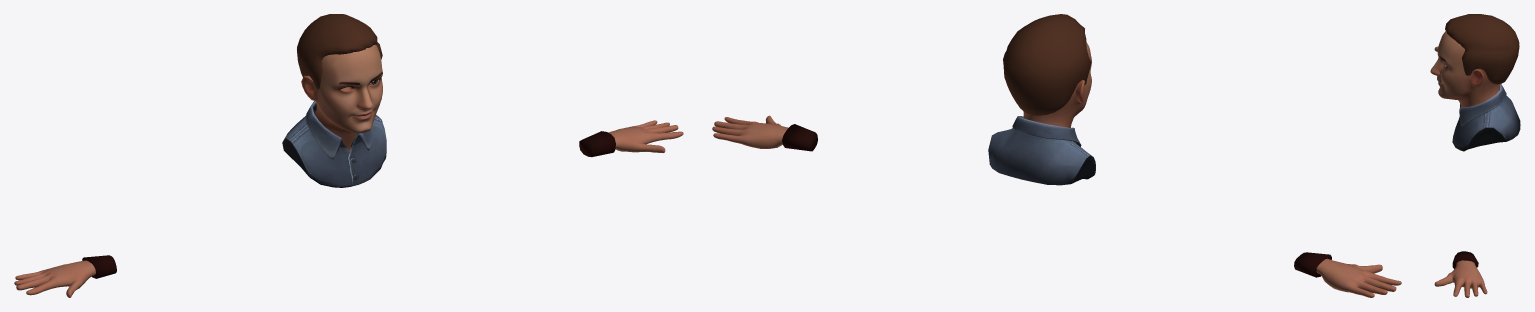
The model's file is 46c939ce-2d04-4cf0-ade4-2b84b24d6ee7 (5).fbx.
3 renders of one model, left to right at view 1: azimuth 30°, elevation 25°; view 2: azimuth 150°, elevation 25°; view 3: azimuth 270°, elevation 25°, orthographic. The views are drawn at different scales.
Visible parts, largest first — view 1: Wolf3D_Head, Wolf3D_Shirt, Wolf3D_Hands, Wolf3D_Hair; view 2: Wolf3D_Hair, Wolf3D_Shirt, Wolf3D_Hands, Wolf3D_Head; view 3: Wolf3D_Hair, Wolf3D_Shirt, Wolf3D_Head, Wolf3D_Hands.
Part boxes in pixels (box(x1,y1,x2,y2)): Wolf3D_Head: box(301, 44, 382, 152); Wolf3D_Shirt: box(282, 101, 386, 187); Wolf3D_Hands: box(14, 120, 683, 297); Wolf3D_Hair: box(297, 14, 382, 89); Wolf3D_Hair: box(1003, 14, 1091, 115); Wolf3D_Shirt: box(988, 116, 1095, 185); Wolf3D_Hands: box(712, 115, 1401, 297); Wolf3D_Head: box(1023, 42, 1091, 127); Wolf3D_Hair: box(1445, 14, 1519, 84); Wolf3D_Shirt: box(1452, 84, 1520, 151); Wolf3D_Head: box(1430, 31, 1500, 107); Wolf3D_Hands: box(1434, 46, 1487, 297).
Bounding box in the file's own units: 1.67 × 0.464 × 0.2426.
Materials: 5 (4 with a texture image).
